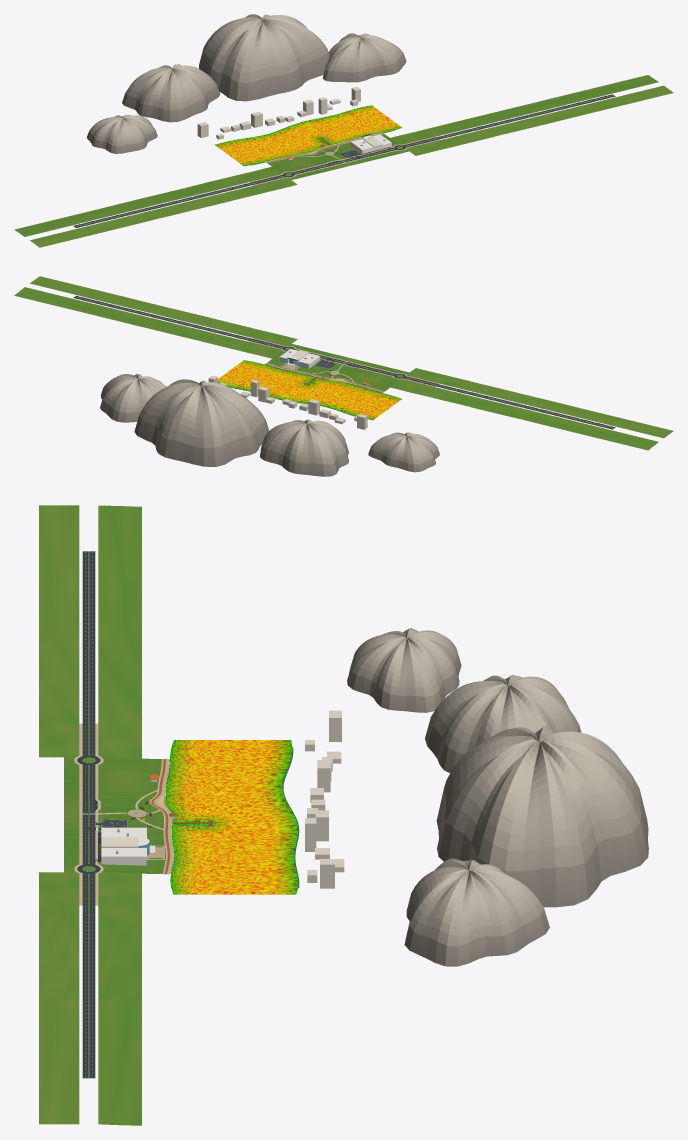
Rendered from jabi-waterfront.glb.
The picture shows the model from 3 angles, top to bottom: view 1: azimuth 30°, elevation 25°; view 2: azimuth 150°, elevation 25°; view 3: azimuth 270°, elevation 25°; orthographic projection. The views are drawn at different scales.
Visible parts, largest first — view 1: JW_Inselbergs, JW_RoadVerge, JW_Water, JW_Road, JW_Ground, JW_FarShore, JW_Mall; view 2: JW_Inselbergs, JW_RoadVerge, JW_Water, JW_Road, JW_Ground, JW_FarShore, JW_Mall; view 3: JW_Inselbergs, JW_RoadVerge, JW_Water, JW_Road, JW_Ground, JW_FarShore, JW_Mall, JW_Promenade.
Boxes of the visible parts, x1=… form: JW_Inselbergs: x1=87, y1=14, x2=406, y2=153; JW_RoadVerge: x1=14, y1=75, x2=673, y2=247; JW_Water: x1=215, y1=105, x2=402, y2=166; JW_Road: x1=73, y1=94, x2=615, y2=227; JW_Ground: x1=267, y1=134, x2=408, y2=179; JW_FarShore: x1=197, y1=87, x2=360, y2=139; JW_Mall: x1=351, y1=134, x2=391, y2=153; JW_Inselbergs: x1=100, y1=374, x2=439, y2=476; JW_RoadVerge: x1=14, y1=276, x2=673, y2=450; JW_Water: x1=218, y1=360, x2=401, y2=420; JW_Road: x1=73, y1=295, x2=615, y2=429; JW_Ground: x1=267, y1=344, x2=409, y2=391; JW_FarShore: x1=208, y1=375, x2=367, y2=429; JW_Mall: x1=279, y1=349, x2=320, y2=368; JW_Inselbergs: x1=347, y1=628, x2=648, y2=966; JW_RoadVerge: x1=39, y1=505, x2=141, y2=1125; JW_Water: x1=165, y1=740, x2=298, y2=894; JW_Road: x1=74, y1=551, x2=103, y2=1078; JW_Ground: x1=64, y1=757, x2=170, y2=873; JW_FarShore: x1=305, y1=710, x2=344, y2=888; JW_Mall: x1=101, y1=827, x2=155, y2=865; JW_Promenade: x1=149, y1=759, x2=173, y2=874.
Bounding box in the file's own units: 1880 × 159 × 783.
